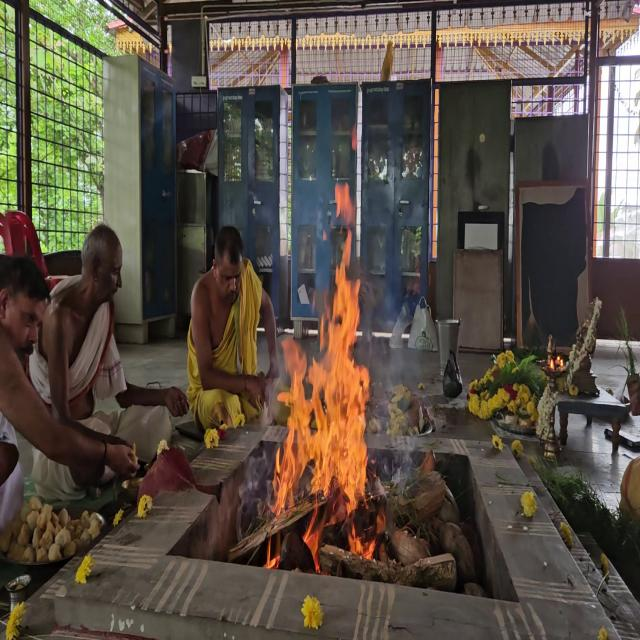fire: (263, 168, 384, 594)
